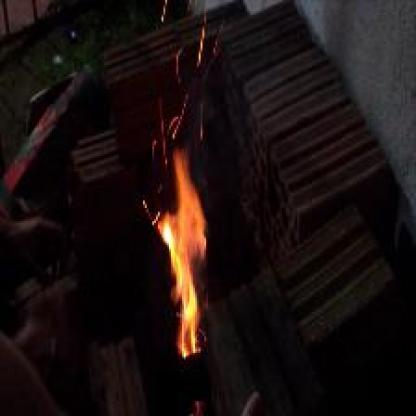fire: (147, 147, 228, 341)
